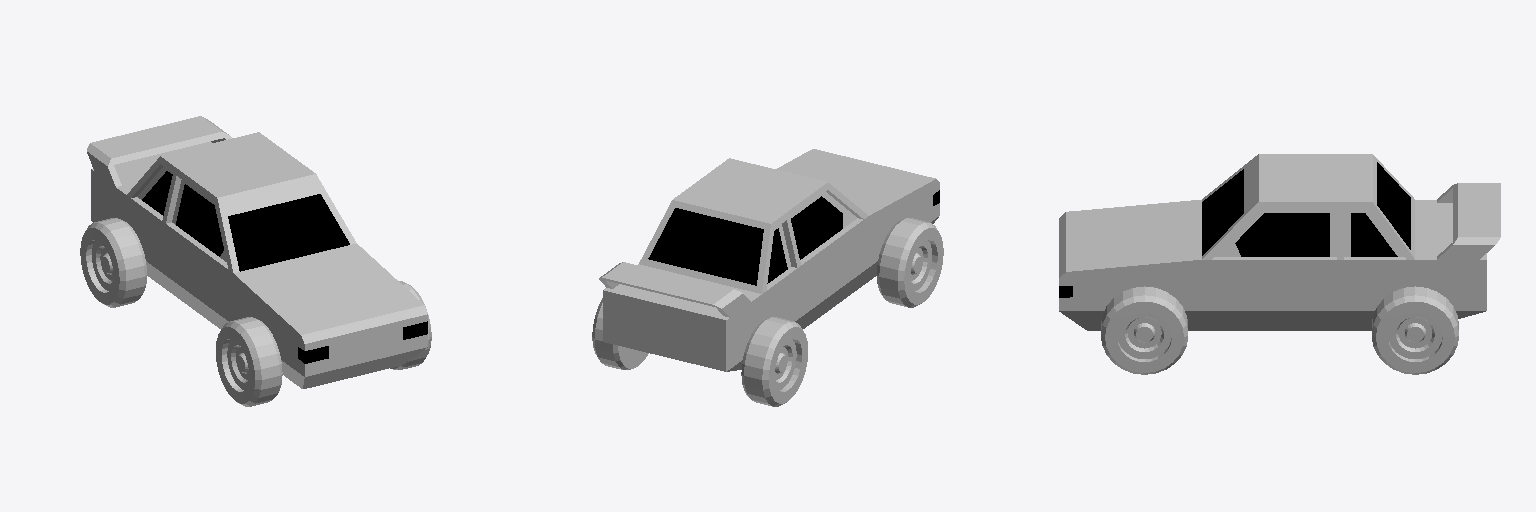
Rendered from Car2.obj.
3 views of the same model, side by side, from view 1: azimuth 30°, elevation 25°; view 2: azimuth 150°, elevation 25°; view 3: azimuth 270°, elevation 25° (orthographic).
Parts seen in each view (by area): view 1: mergedBlocks; view 2: mergedBlocks; view 3: mergedBlocks.
Boxes of the visible parts, x1,y1,x2,y2 form: mergedBlocks: [80, 116, 431, 406]; mergedBlocks: [592, 149, 943, 406]; mergedBlocks: [1059, 154, 1500, 374].
Bounding box in the file's own units: 1.43 × 1.21 × 3.1.